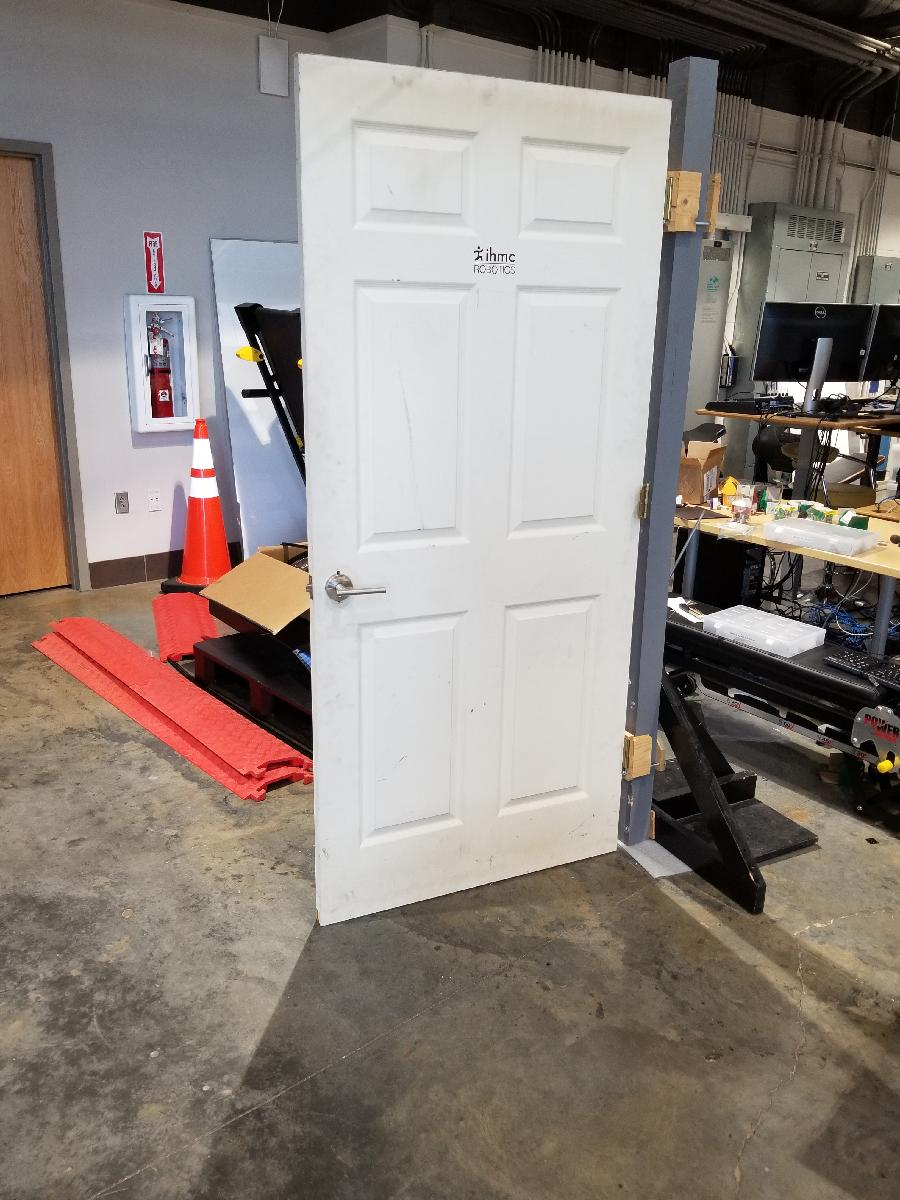door: (292, 49, 678, 934)
doorHandle: (312, 572, 390, 611)
